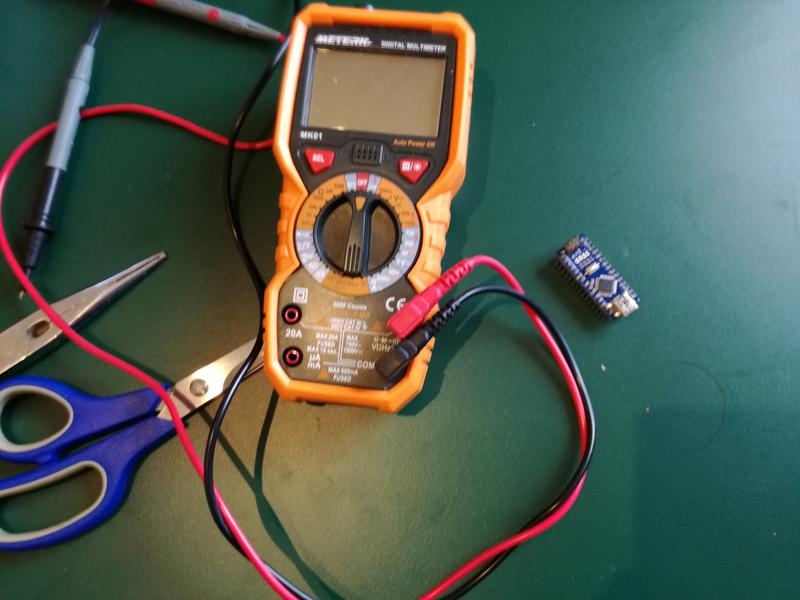Arduino_Nano: (551, 228, 643, 323)
